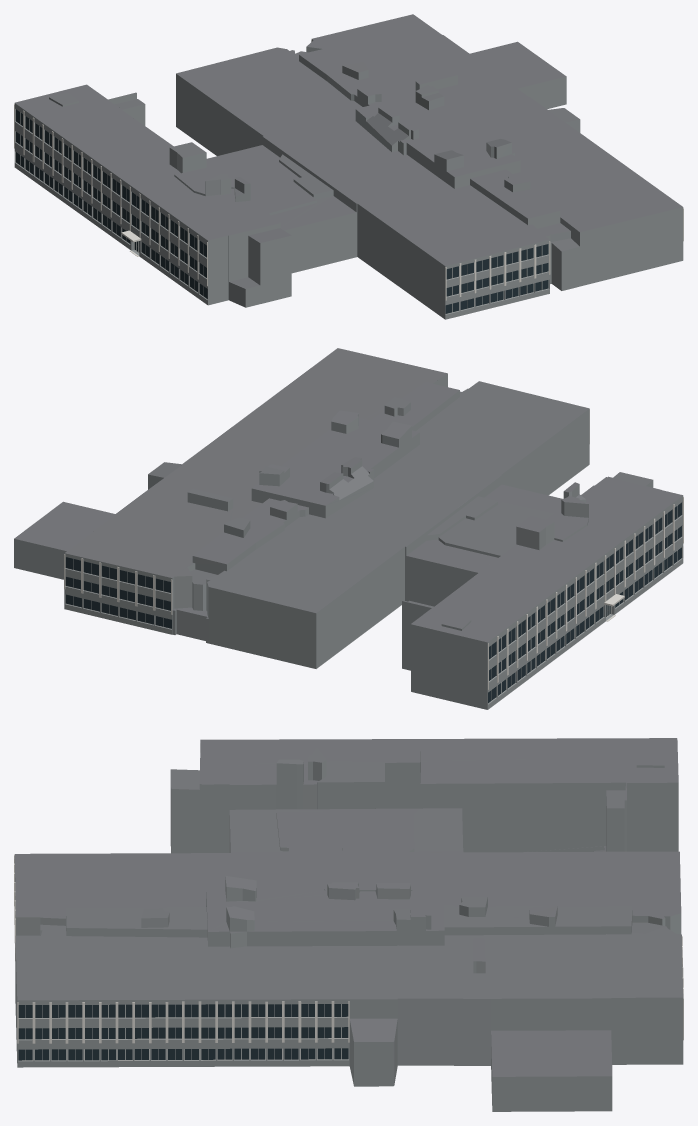
File: recipe-large-politie-amsterdam-johan-huizingalaan.glb
3 renders of one model, top to bottom at view 1: azimuth 30°, elevation 25°; view 2: azimuth 150°, elevation 25°; view 3: azimuth 270°, elevation 25°, orthographic. The views are drawn at different scales.
Visible parts, largest first — view 1: politie-amsterdam-johan-huizingalaan; view 2: politie-amsterdam-johan-huizingalaan; view 3: politie-amsterdam-johan-huizingalaan.
Boxes of the visible parts, x1=… form: politie-amsterdam-johan-huizingalaan: x1=14, y1=14, x2=683, y2=319; politie-amsterdam-johan-huizingalaan: x1=14, y1=348, x2=683, y2=709; politie-amsterdam-johan-huizingalaan: x1=14, y1=738, x2=683, y2=1111.
Bounding box in the file's own units: 94.84 × 15.32 × 90.49.
